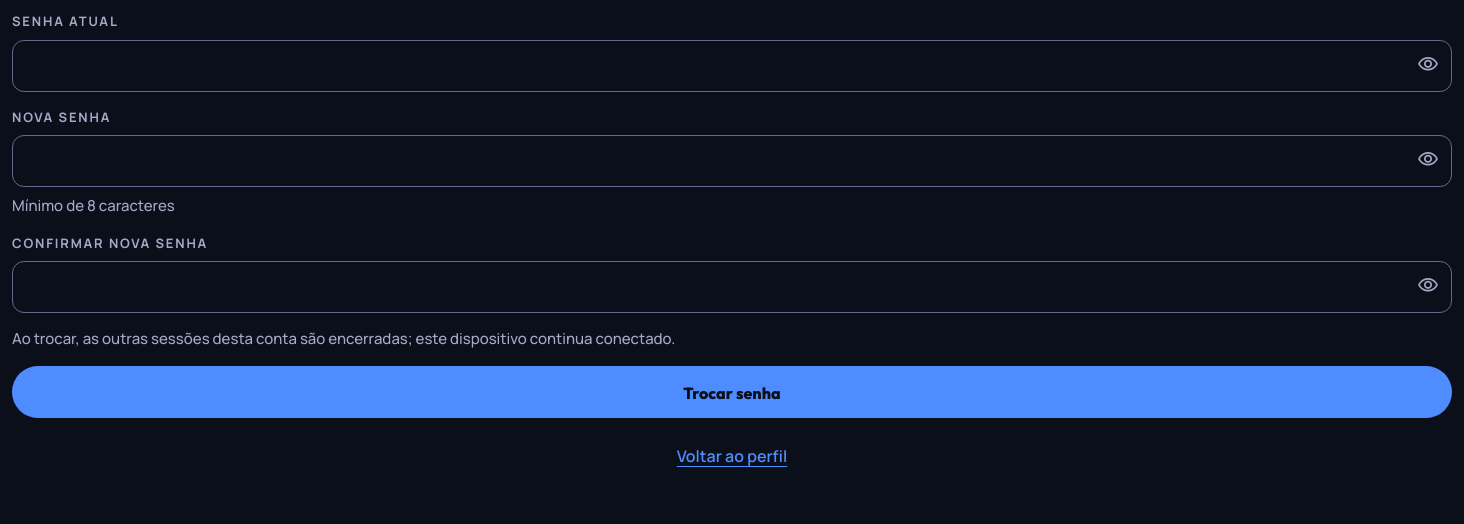
Test: TrocarSenhaForm (CA-56) › LIMITE_TENTATIVAS (sem fields) → mensagem geral pelo code, não pela message da API
The width and height of the screenshot is (1464, 524).
Type "segredo-forte" into the password field labelled "Senha atual" at coordinates (732, 66), box 12,40 -> 1452,92
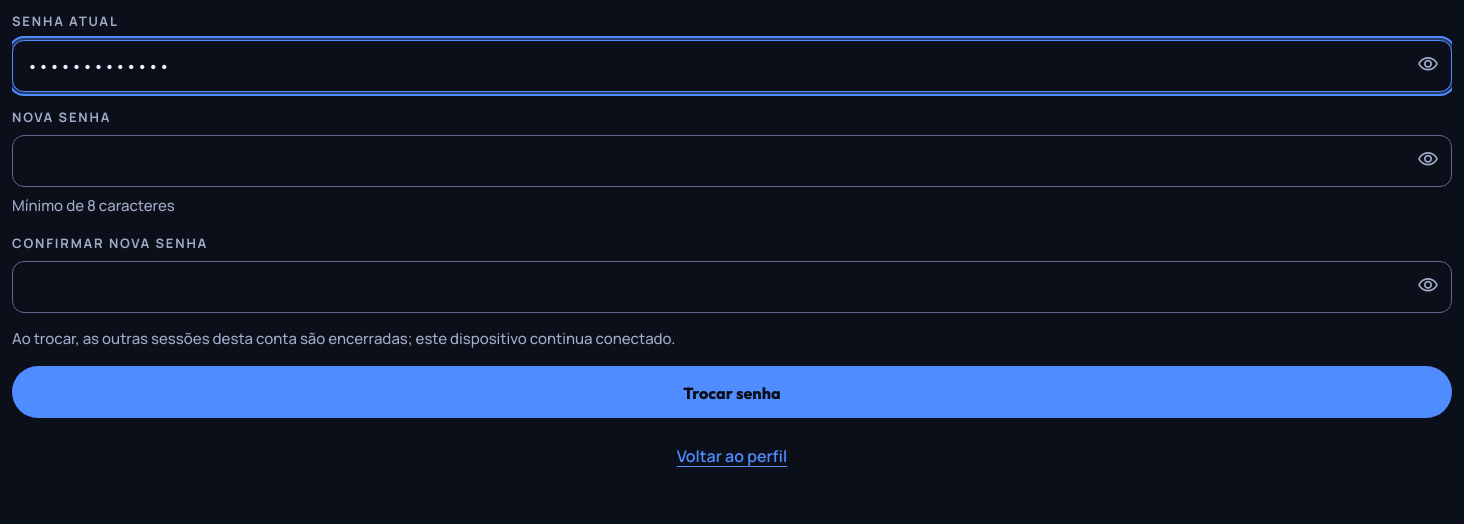
Type "outra-senha-boa" into the password field labelled "Nova senha" at coordinates (732, 161), box 12,135 -> 1452,187
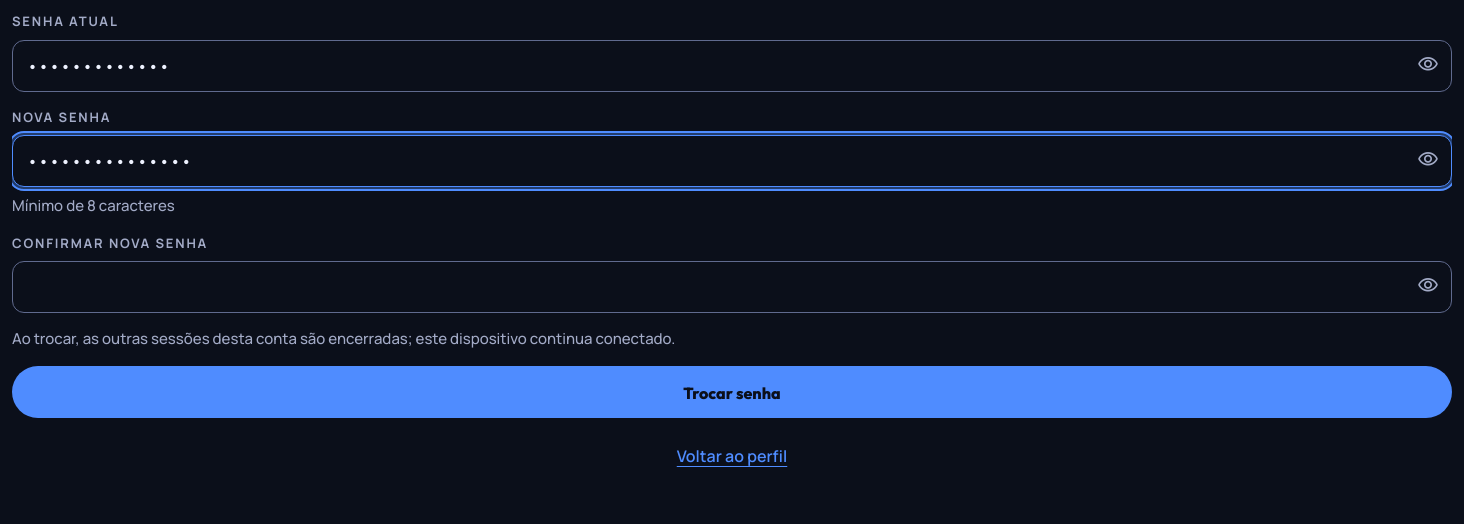
Type "outra-senha-boa" into the password field labelled "Confirmar nova senha" at coordinates (732, 287), box 12,261 -> 1452,313
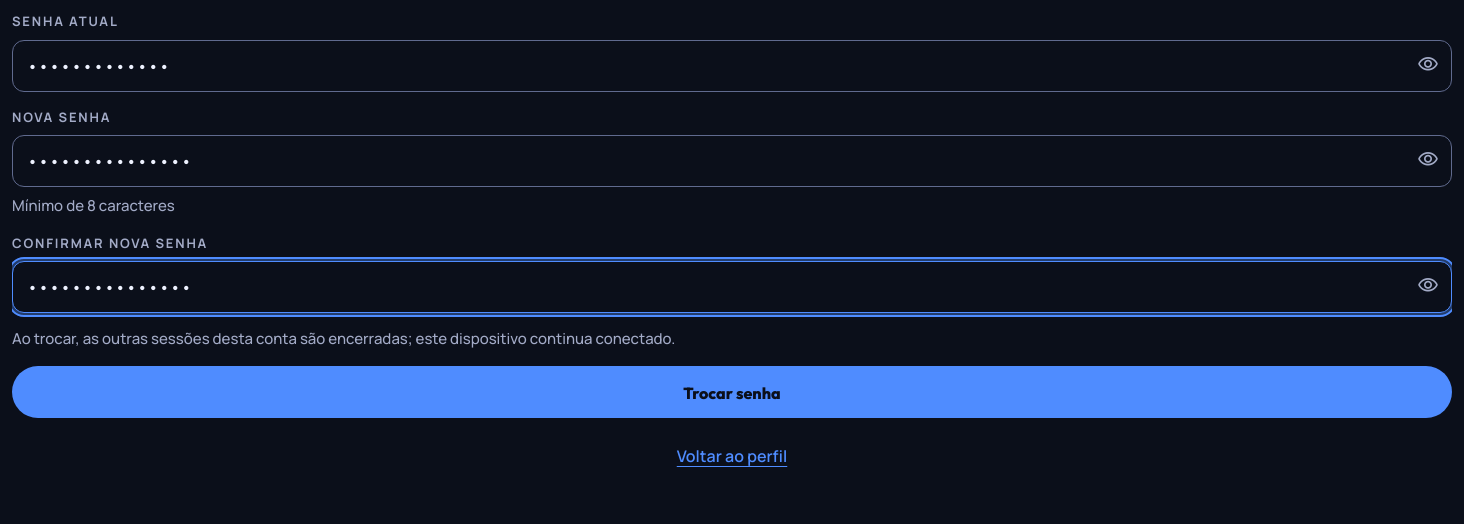
Click the button "Trocar senha" at coordinates (732, 392), box 12,366 -> 1452,418
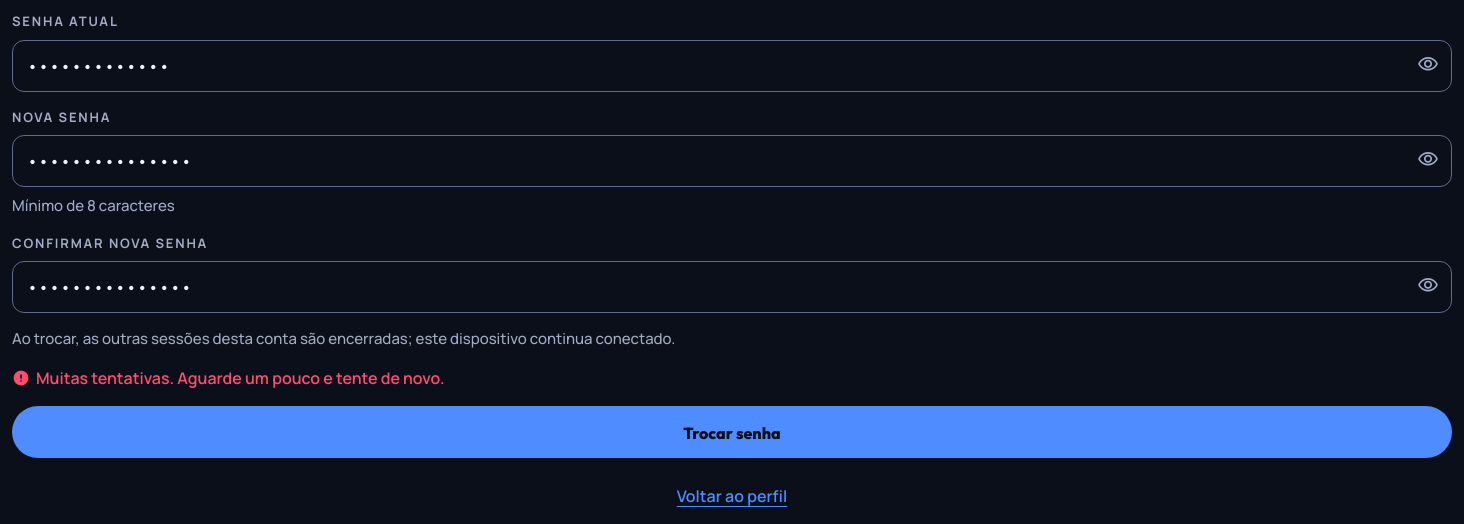
Check: the text "Muitas tentativas. Aguarde um pouco e tente de novo." is shown, box 12,367 -> 445,389
